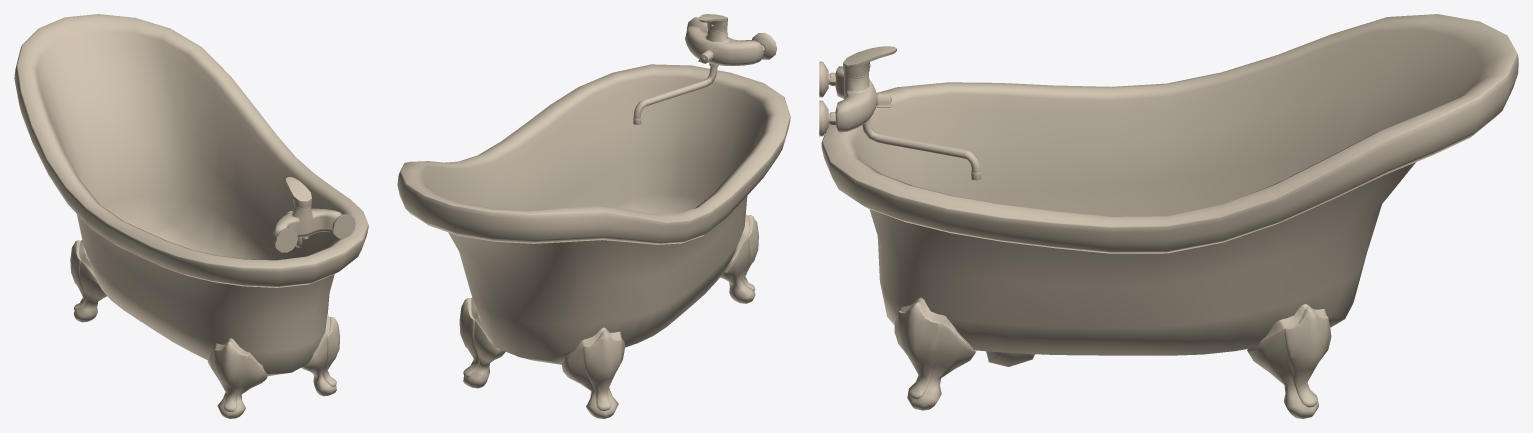
File: bath_01_L.fbx
3 renders of one model, left to right at view 1: azimuth 30°, elevation 25°; view 2: azimuth 150°, elevation 25°; view 3: azimuth 270°, elevation 25°, orthographic. The views are drawn at different scales.
Parts seen in each view (by area): view 1: bath_01_L; view 2: bath_01_L; view 3: bath_01_L.
Boxes of the visible parts, x1,y1,x2,y2 form: bath_01_L: [14, 14, 368, 418]; bath_01_L: [397, 14, 790, 418]; bath_01_L: [819, 14, 1518, 418].
Bounding box in the file's own units: 16.96 × 18.02 × 34.87.
